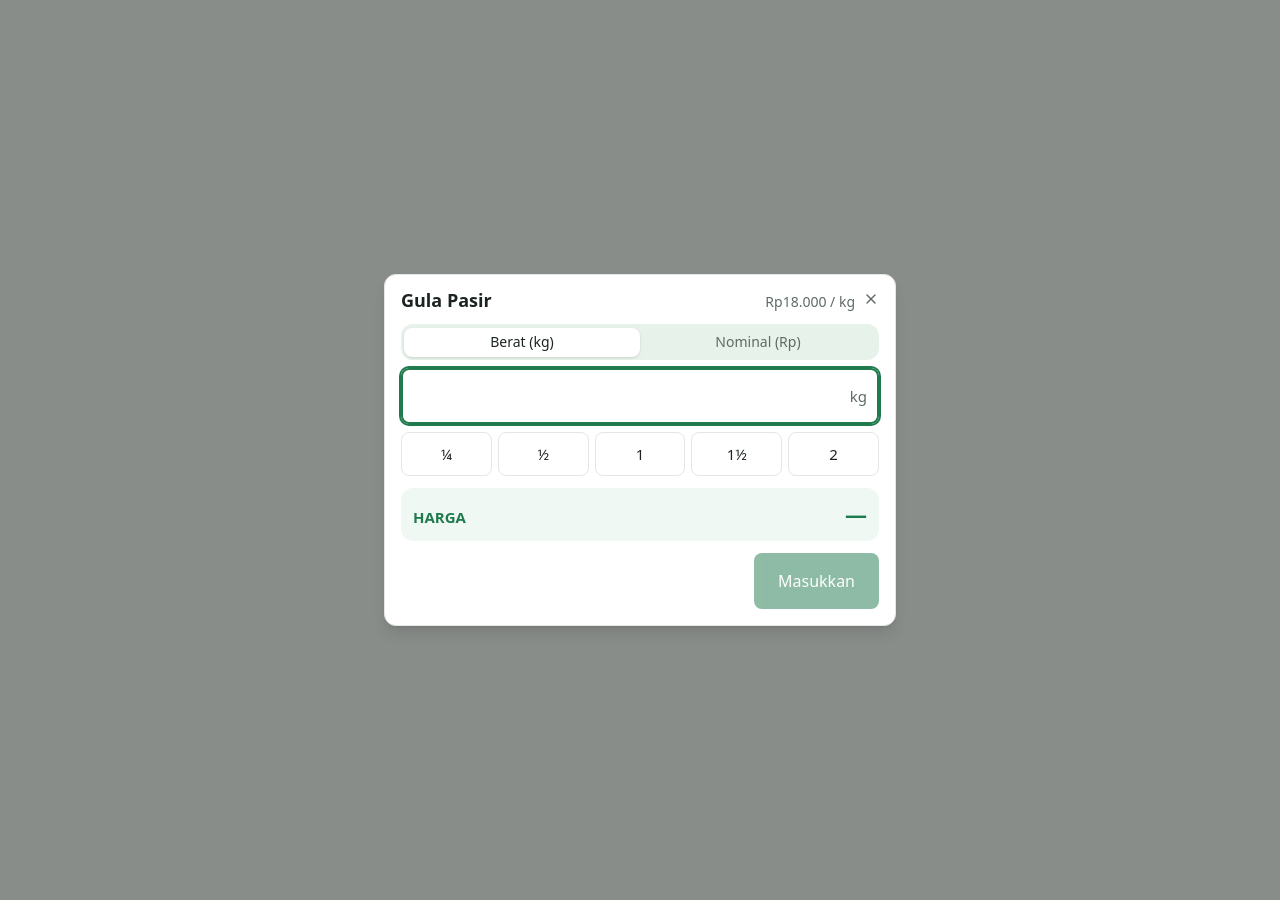
it: tombol 1½ mengisi 1,5
The width and height of the screenshot is (1280, 900).
Click the button named "1,5 kg": (737, 454) x1=691 y1=432 x2=782 y2=476
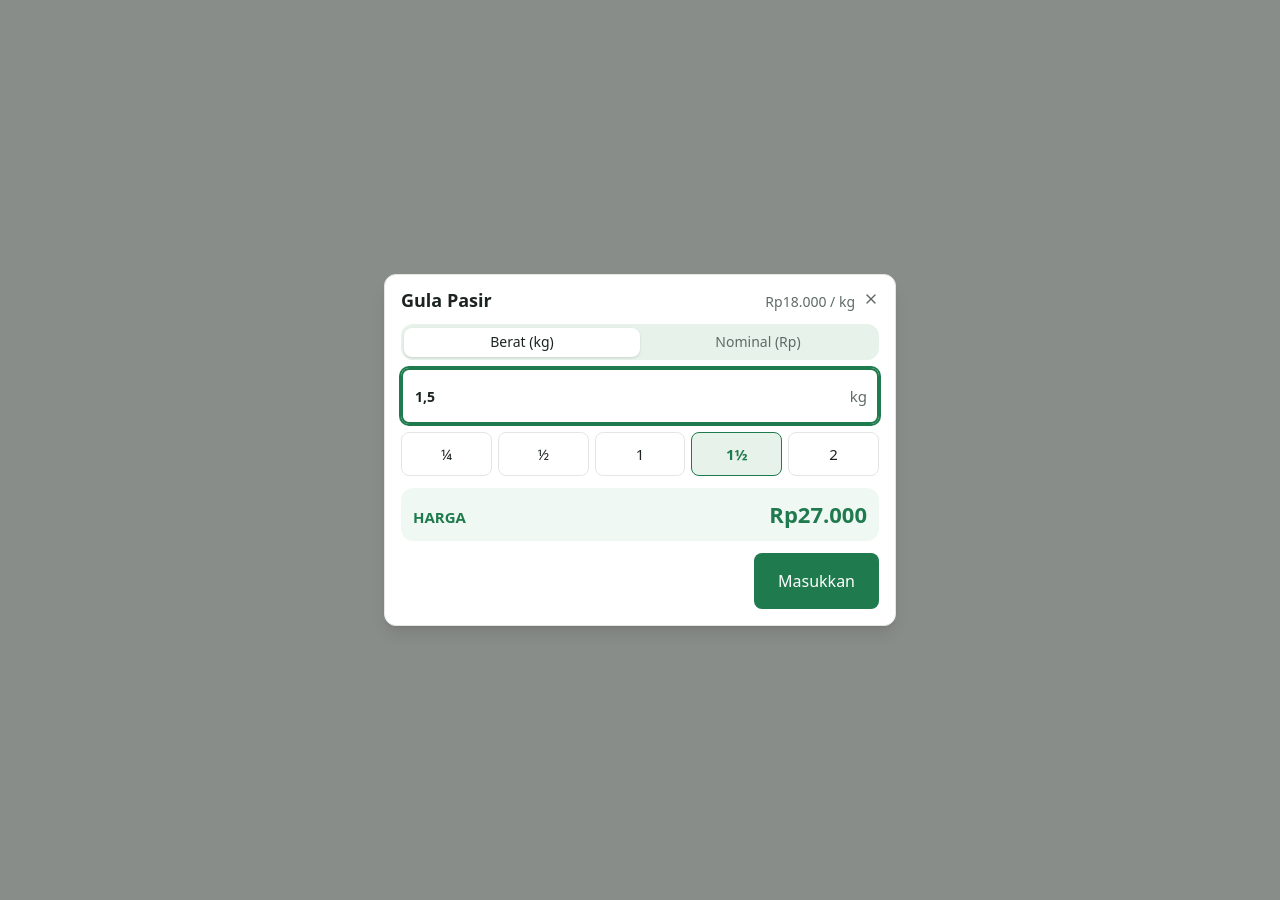
Expected: the button named "0,25 kg" reads "¼", x1=401 y1=432 x2=492 y2=476
Result: the field named "Berat (kg)" holds "1,5" at x1=401 y1=368 x2=879 y2=424
Result: the button "Masukkan" is enabled at x1=754 y1=553 x2=879 y2=609
